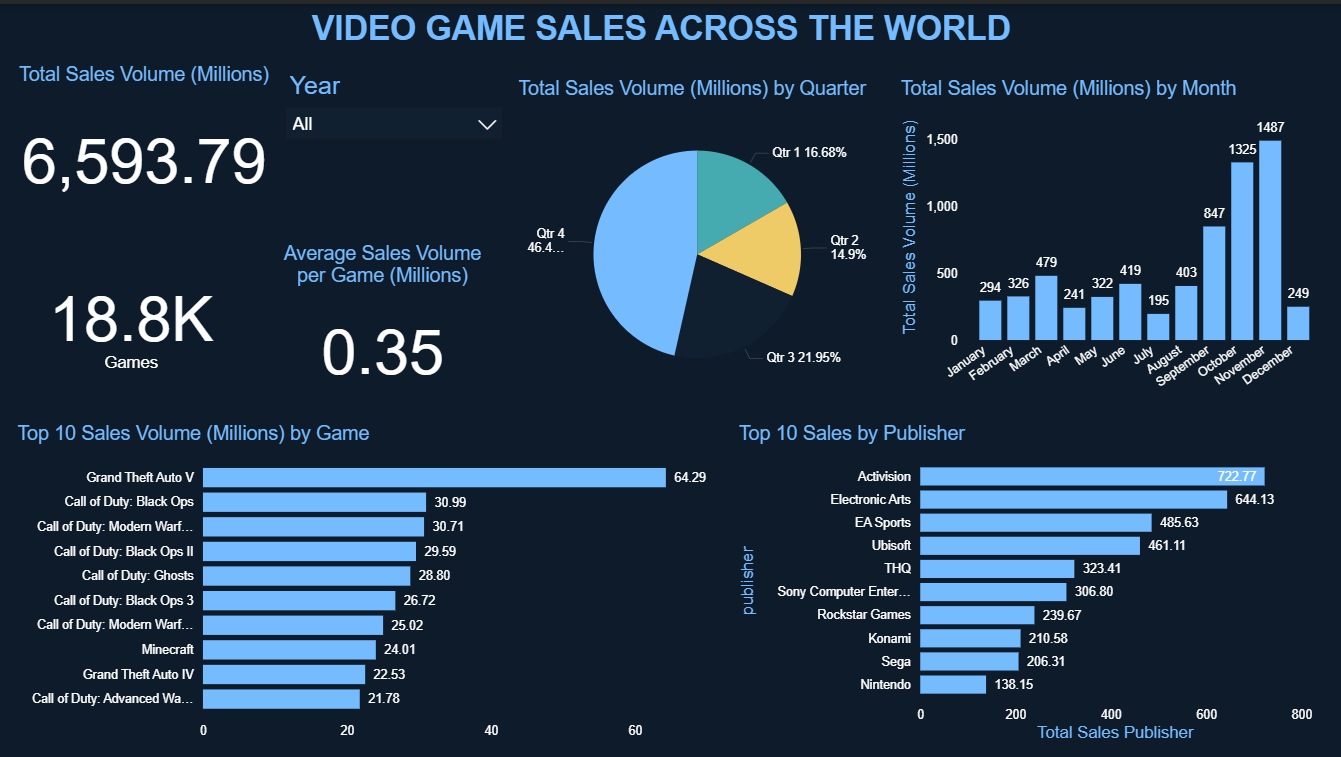

This screenshot's page, from the dashboard's own definition file:
{"tool":"powerbi","page":{"name":"Overall Sales","canvas":[1280,720],"ordinal":0},"visuals":[{"type":"card","title":"Total Sales Volume (Millions)","fields":{"Values":["_Measures.Total Sales"]},"box":[11.6,58,251.8,154.1],"z":0},{"type":"card","title":"Average Sales Volume per Game (Millions)","fields":{"Values":["_Measures.Average Sale per Game"]},"box":[252.1,227.7,226.1,157.8],"z":1000},{"type":"clusteredColumnChart","fields":{"Y":["_Measures.Total Sales (Millions)"],"Category":["Fact_Games.release_date.Variation.Date Hierarchy.Month"]},"box":[854.7,69.6,410.8,316.4],"z":2000},{"type":"slicer","fields":{"Values":["Fact_Games.release_date.Variation.Date Hierarchy.Year"]},"box":[263.5,58.6,226.1,154.5],"z":3000},{"type":"card","fields":{"Values":["_Measures.Total Games"]},"box":[11.6,222,226.9,164],"z":4000},{"type":"pieChart","fields":{"Y":["_Measures.Total Sales Volume (Millions)"],"Category":["Fact_Games.release_date.Variation.Date Hierarchy.Quarter"]},"box":[490.3,69.6,351.2,316.4],"z":5000},{"type":"clusteredBarChart","title":"Top 10 Sales Volume (Millions) by Game","fields":{"Category":["Dim_Game.title"],"Y":["_Measures.Total Sales Volume (Millions)"]},"box":[11.6,399.2,674.2,309.8],"z":6000},{"type":"clusteredBarChart","title":"Top 10 Sales by Publisher","fields":{"Category":["Dim_Publisher.publisher"],"Y":["_Measures.Total Sales Publisher"]},"box":[700.7,399.2,566.5,309.8],"z":7000},{"type":"textbox","box":[99.4,0,1065.1,58],"z":8000}]}

Visuals, with their boxes in screenshot pixels (x1, y1, x2, y2), scaled from the page's 1280x720 canvas onto the 1341x757 screenshot:
"Total Sales Volume (Millions)" card: [12, 61, 276, 223]
"Average Sales Volume per Game (Millions)" card: [264, 239, 501, 405]
clusteredColumnChart - _Measures.Total Sales (Millions) x Fact_Games.release_date.Variation.Date Hierarchy.Month: [895, 73, 1326, 406]
slicer - Fact_Games.release_date.Variation.Date Hierarchy.Year: [276, 62, 513, 224]
card - _Measures.Total Games: [12, 233, 250, 406]
pieChart - _Measures.Total Sales Volume (Millions) x Fact_Games.release_date.Variation.Date Hierarchy.Quarter: [514, 73, 882, 406]
"Top 10 Sales Volume (Millions) by Game" clusteredBarChart: [12, 420, 718, 745]
"Top 10 Sales by Publisher" clusteredBarChart: [734, 420, 1328, 745]
textbox: [104, 0, 1220, 61]
